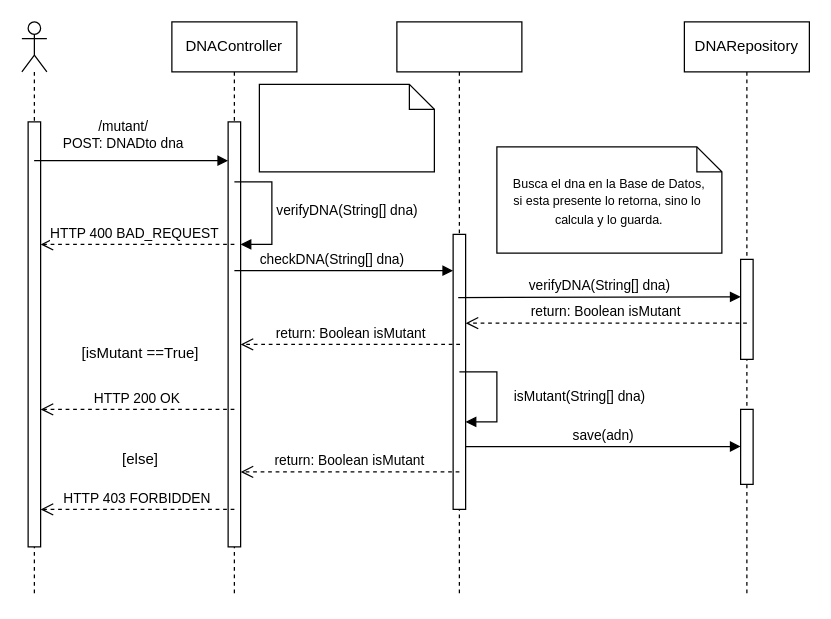
This 831x619 diagram has some shape labels left out. Here are the shapes that lost their labels. From the top down, the box of each, then its label:
(258, 83, 434, 172): Validad el dna y lanza una excepción si es invalido.
(396, 21, 522, 597): DNAService
